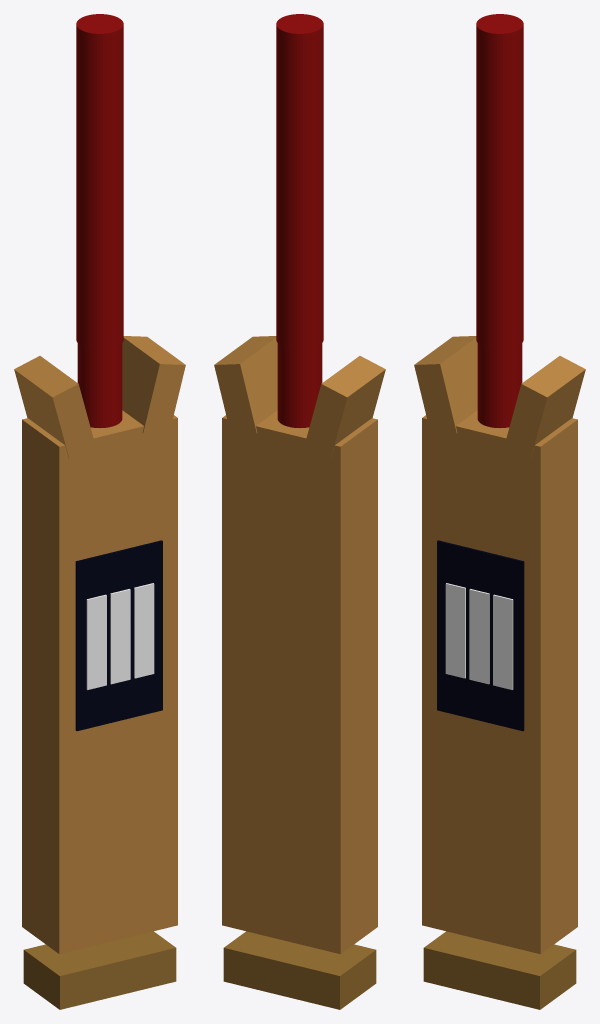
3 views of the same model, side by side, from view 1: azimuth 30°, elevation 25°; view 2: azimuth 150°, elevation 25°; view 3: azimuth 330°, elevation 25° (orthographic).
Visible parts, largest first — view 1: part_9, part_6, part_3, part_8, part_4, part_5, part_7, part_1, part_0, part_2; view 2: part_9, part_6, part_8, part_4, part_5, part_7; view 3: part_9, part_6, part_3, part_8, part_5, part_4, part_7, part_1, part_2, part_0.
Part boxes in pixels (<box>): part_9: <box>22,410,177,954</box>; part_6: <box>76,14,123,349</box>; part_3: <box>75,540,162,731</box>; part_8: <box>23,931,176,1009</box>; part_4: <box>122,336,185,434</box>; part_5: <box>14,356,95,458</box>; part_7: <box>77,14,122,427</box>; part_1: <box>110,589,130,684</box>; part_0: <box>134,583,154,678</box>; part_2: <box>86,594,106,689</box>; part_9: <box>222,410,377,954</box>; part_6: <box>276,14,323,349</box>; part_8: <box>223,931,376,1009</box>; part_4: <box>214,336,277,434</box>; part_5: <box>304,356,385,458</box>; part_7: <box>277,14,322,427</box>; part_9: <box>422,410,577,954</box>; part_6: <box>476,14,523,349</box>; part_3: <box>437,540,524,731</box>; part_8: <box>423,931,576,1009</box>; part_5: <box>414,336,477,434</box>; part_4: <box>504,356,585,458</box>; part_7: <box>477,14,522,427</box>; part_1: <box>469,589,489,684</box>; part_2: <box>445,583,465,678</box>; part_0: <box>493,594,513,689</box>.
Size of the model in its own units: 0.1455 by 1 by 0.0759.
